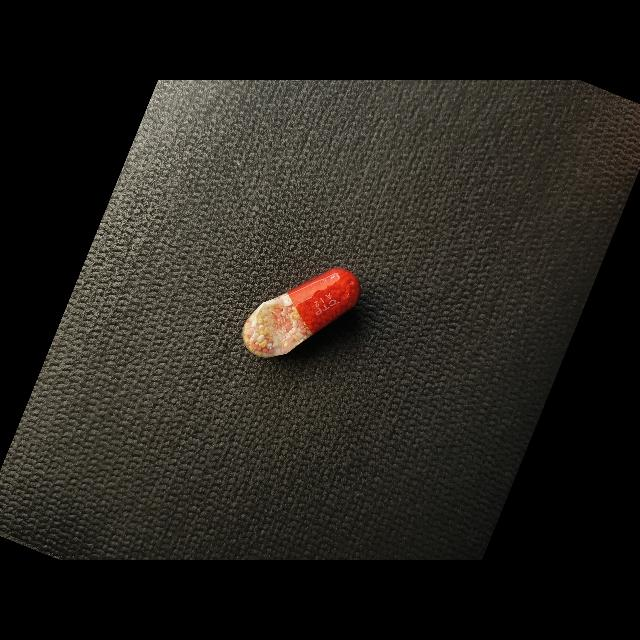Defective Capsule: (242, 268, 360, 358)
